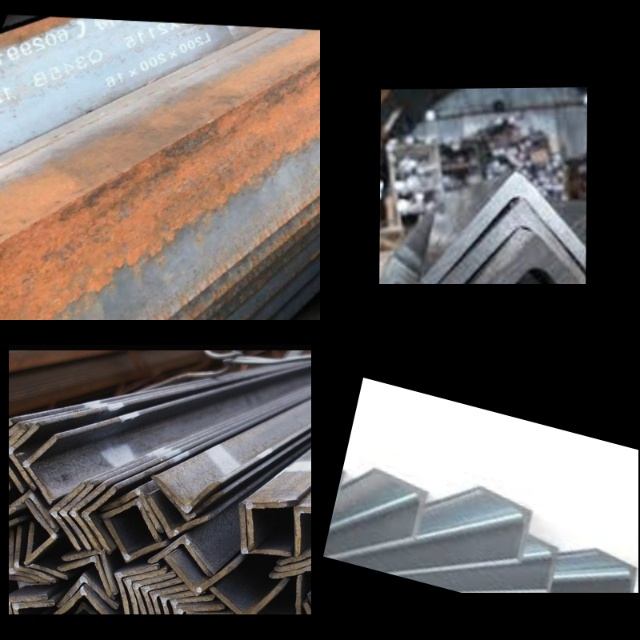Angle: (430, 182, 587, 280), (435, 217, 586, 284), (0, 233, 60, 320), (423, 252, 586, 284), (470, 488, 532, 556), (366, 470, 426, 535), (214, 581, 285, 614), (241, 508, 288, 556), (107, 523, 164, 559), (168, 561, 232, 592), (105, 493, 160, 529), (152, 498, 205, 534), (591, 553, 638, 593), (118, 567, 157, 614), (155, 478, 214, 509), (66, 552, 114, 589), (54, 486, 83, 547), (16, 530, 52, 579), (10, 533, 46, 582), (107, 503, 157, 538), (521, 538, 557, 586), (125, 571, 165, 614), (63, 488, 91, 548), (27, 439, 54, 501), (64, 559, 110, 595), (86, 490, 113, 549), (152, 542, 206, 571), (27, 505, 54, 561), (32, 528, 63, 576), (74, 489, 100, 546), (249, 506, 285, 546), (11, 427, 35, 486), (136, 576, 173, 614), (276, 561, 311, 599), (273, 571, 311, 606), (261, 579, 299, 614), (62, 580, 114, 605), (0, 288, 38, 320), (55, 592, 110, 614), (165, 494, 214, 518), (281, 551, 311, 589), (145, 581, 178, 614), (9, 430, 25, 487), (152, 587, 185, 614), (296, 510, 311, 553)
